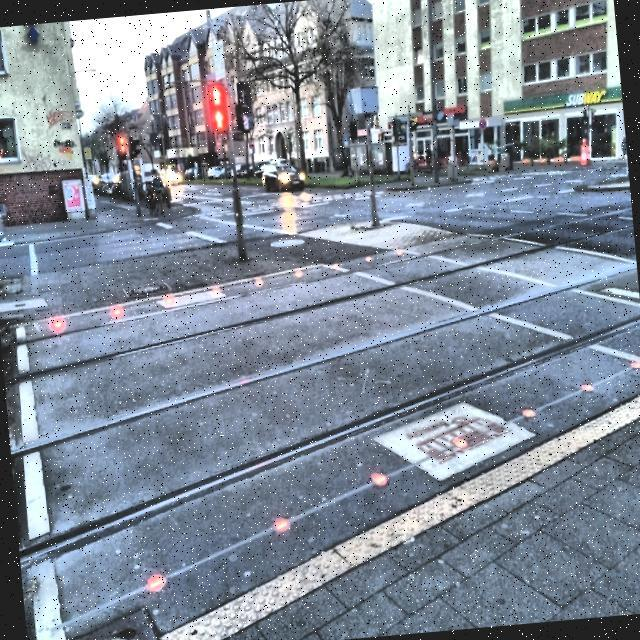red_light: (212, 110, 225, 130), (210, 84, 221, 107)
